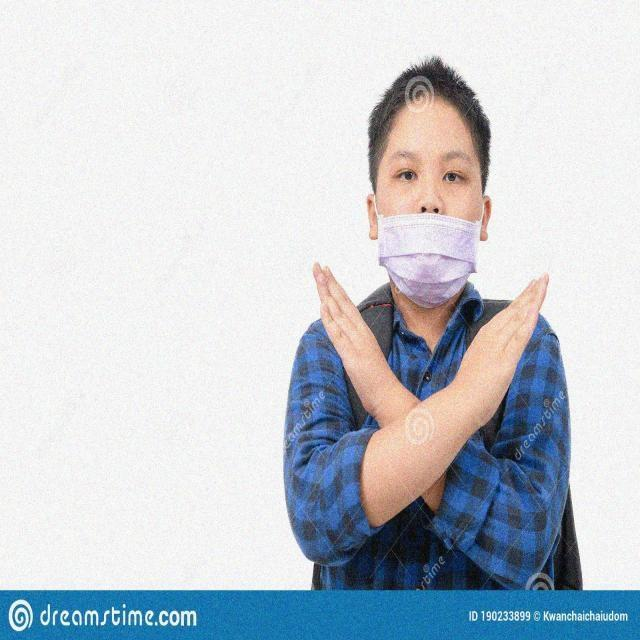hairnet: (359, 131, 494, 304)
